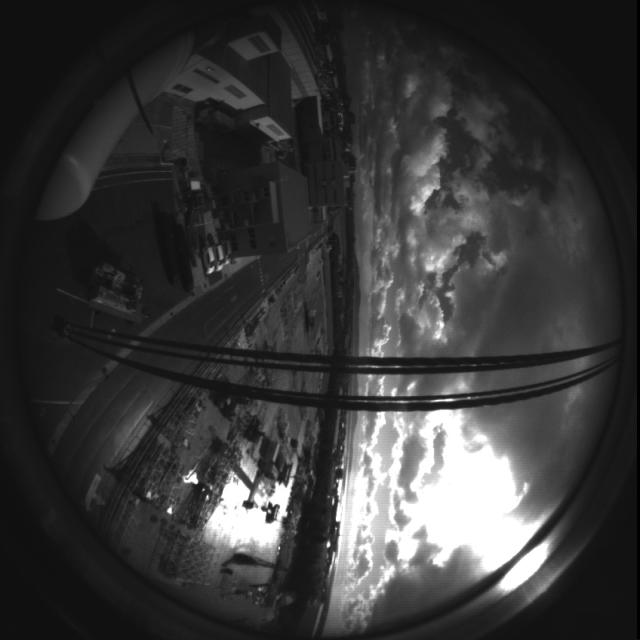rope: (8, 301, 633, 415)
sky: (311, 2, 617, 638)
